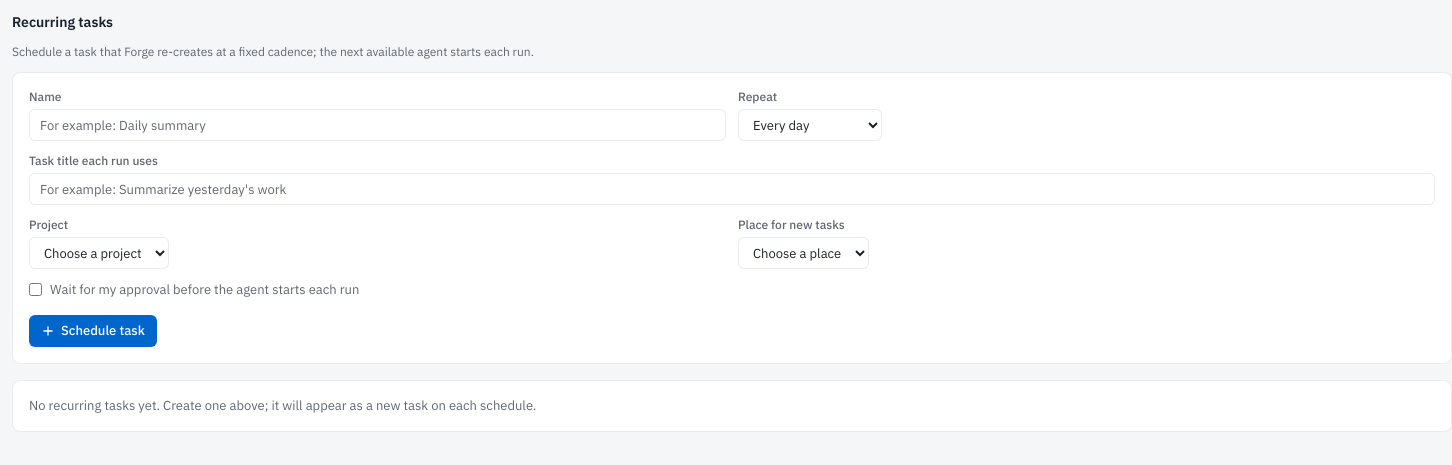
Test: RecurringTasksBlock › creates a schedule from project, place and cadence
Expected: the text "No recurring tasks yet" is shown, [29,397,536,414]
Type "Weekly cleanup" into the field labelled "Name". click: (378, 125)
box: [29,109,726,141]
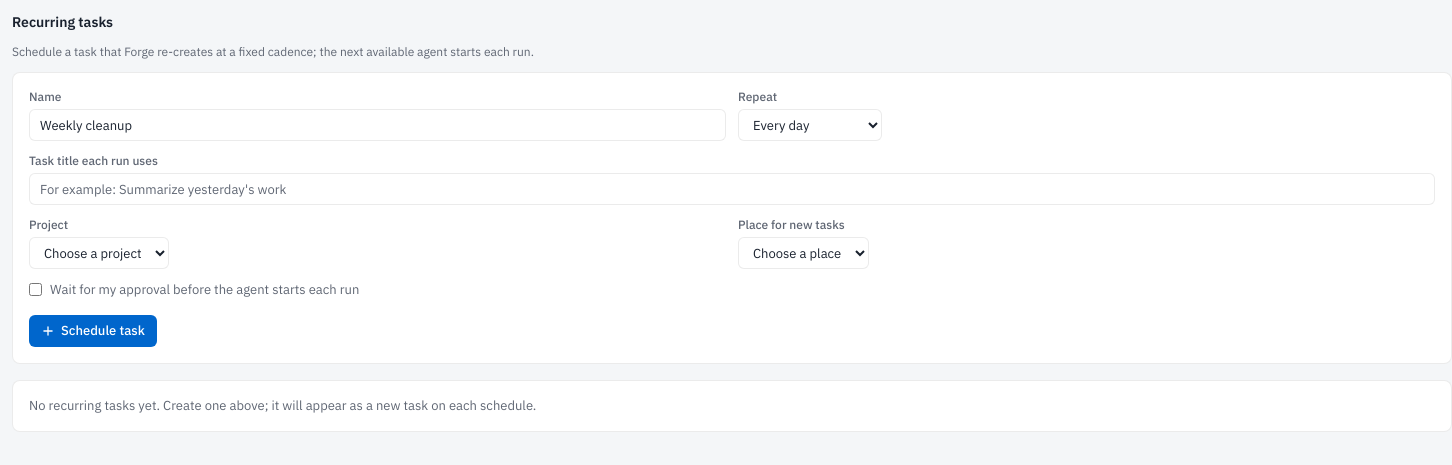
Type "Clean up test data" into the field labelled "Task title each run uses". click: (732, 189)
box: [29,173,1435,205]
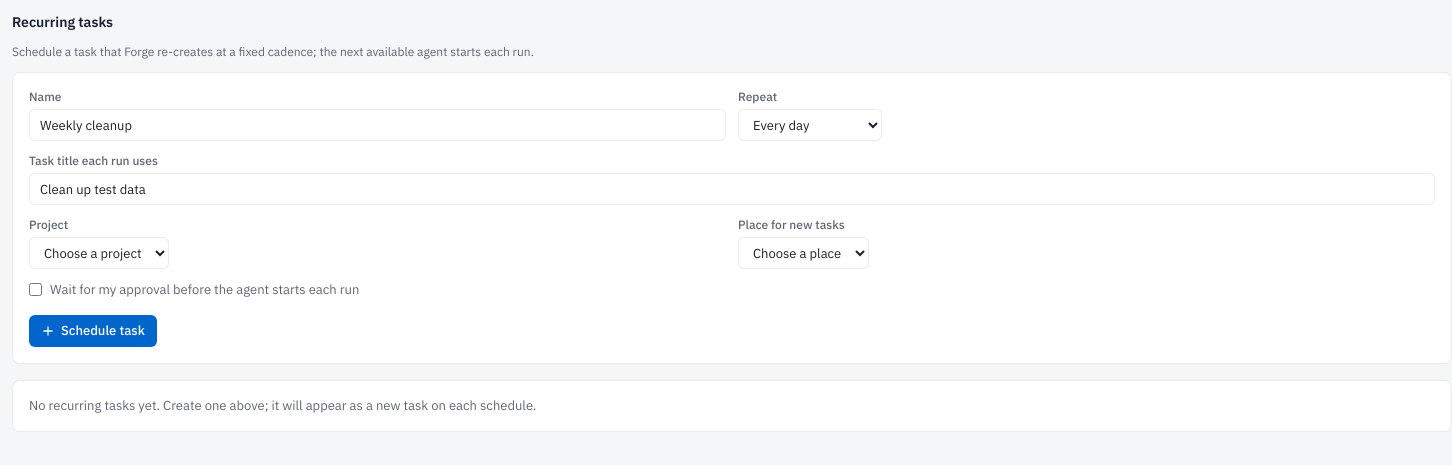
Select "Every week" in the dropdown labelled "Repeat". click: (810, 125)
box: [738,109,882,141]
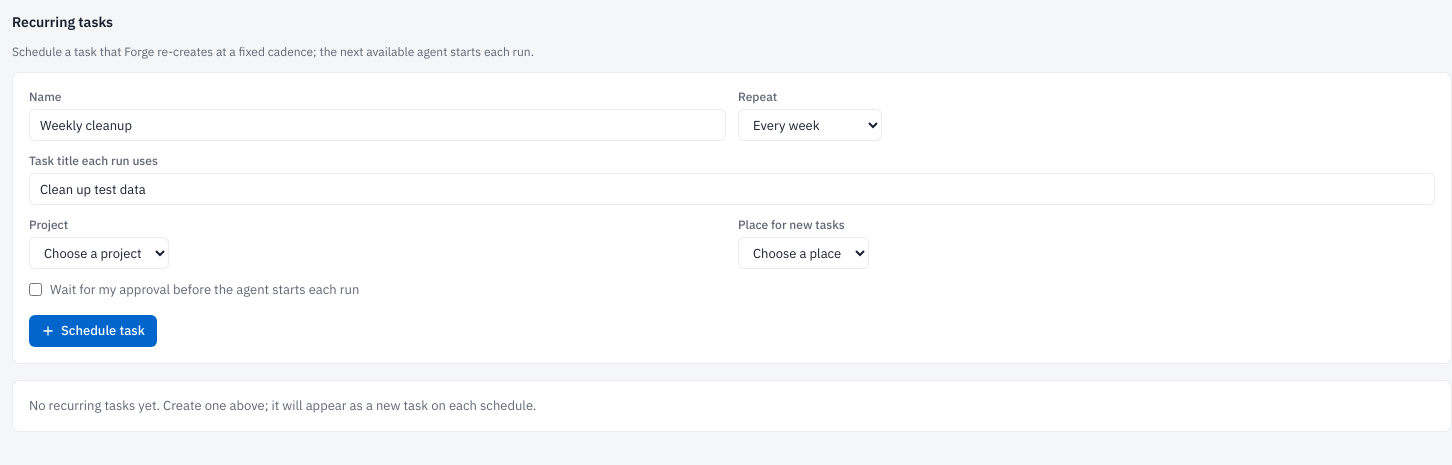
Select "Website" in the dropdown labelled "Project". click: (99, 253)
box: [29,237,169,269]
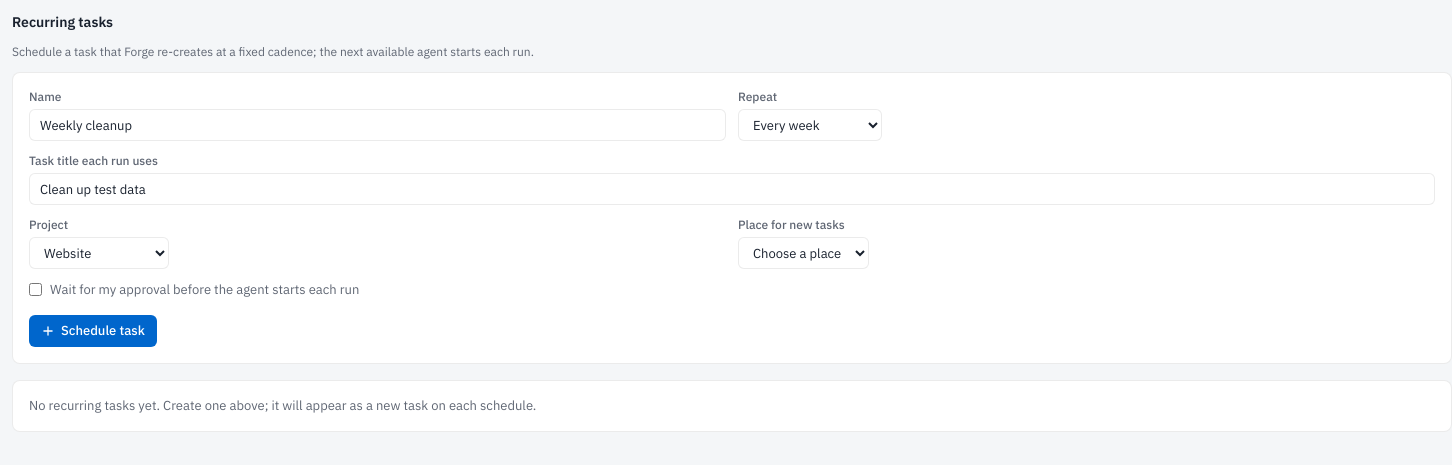
Select "Inbox" in the dropdown labelled "Place for new tasks". click: (804, 253)
box: [738,237,869,269]
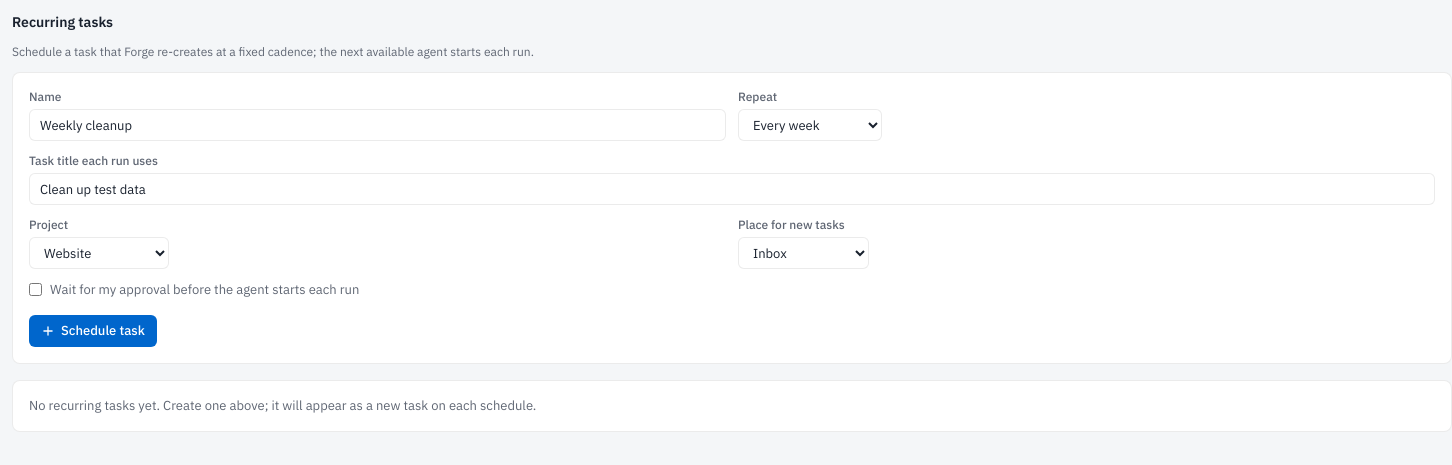
Click the button with test id "save-recurring-task". click: (93, 331)
box: [29,315,157,347]
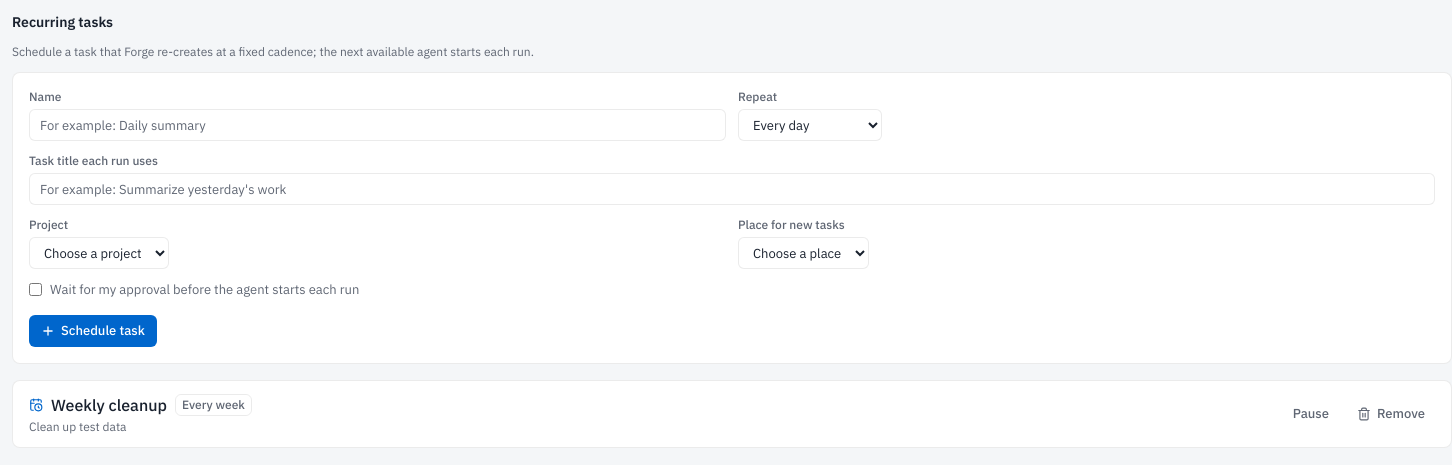
Expected: the text "Weekly cleanup" is shown, [51,393,167,417]
